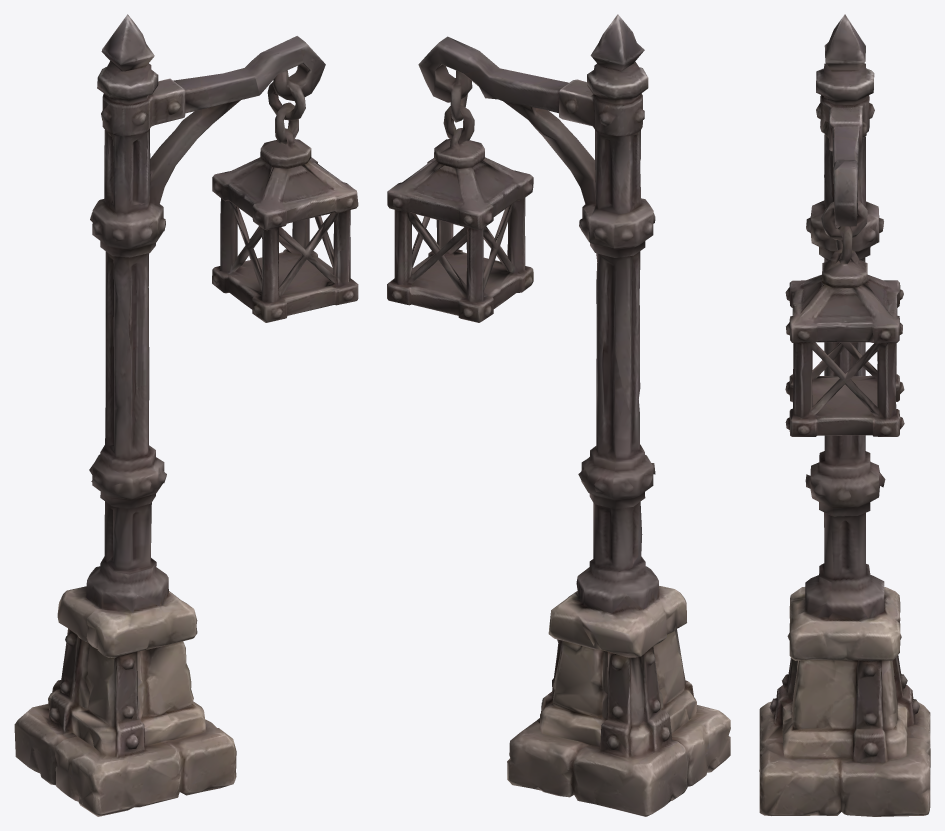
File: lamp.glb
3 views of the same model, side by side, from view 1: azimuth 30°, elevation 25°; view 2: azimuth 150°, elevation 25°; view 3: azimuth 270°, elevation 25° (orthographic).
Visible parts, largest first — view 1: tripo_node_48da5d30-1499-44d8-8029-89c65c1318e9; view 2: tripo_node_48da5d30-1499-44d8-8029-89c65c1318e9; view 3: tripo_node_48da5d30-1499-44d8-8029-89c65c1318e9.
Part boxes in pixels (x1,y1,x2,y2): tripo_node_48da5d30-1499-44d8-8029-89c65c1318e9: (14,14,358,816); tripo_node_48da5d30-1499-44d8-8029-89c65c1318e9: (387,14,730,816); tripo_node_48da5d30-1499-44d8-8029-89c65c1318e9: (759,14,930,816).
Size of the model in its own units: 0.3893 by 1 by 0.2013.
Materials: 1 (1 with a texture image).
